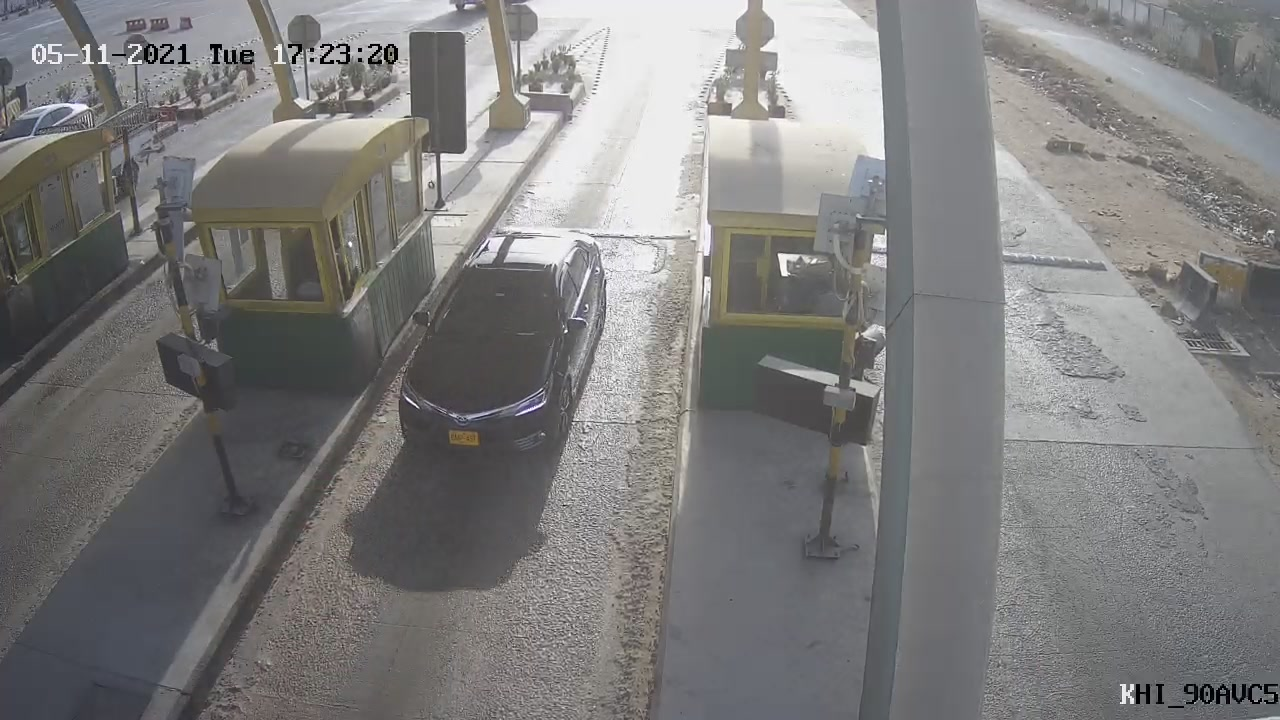F1: (359, 205, 635, 490)
